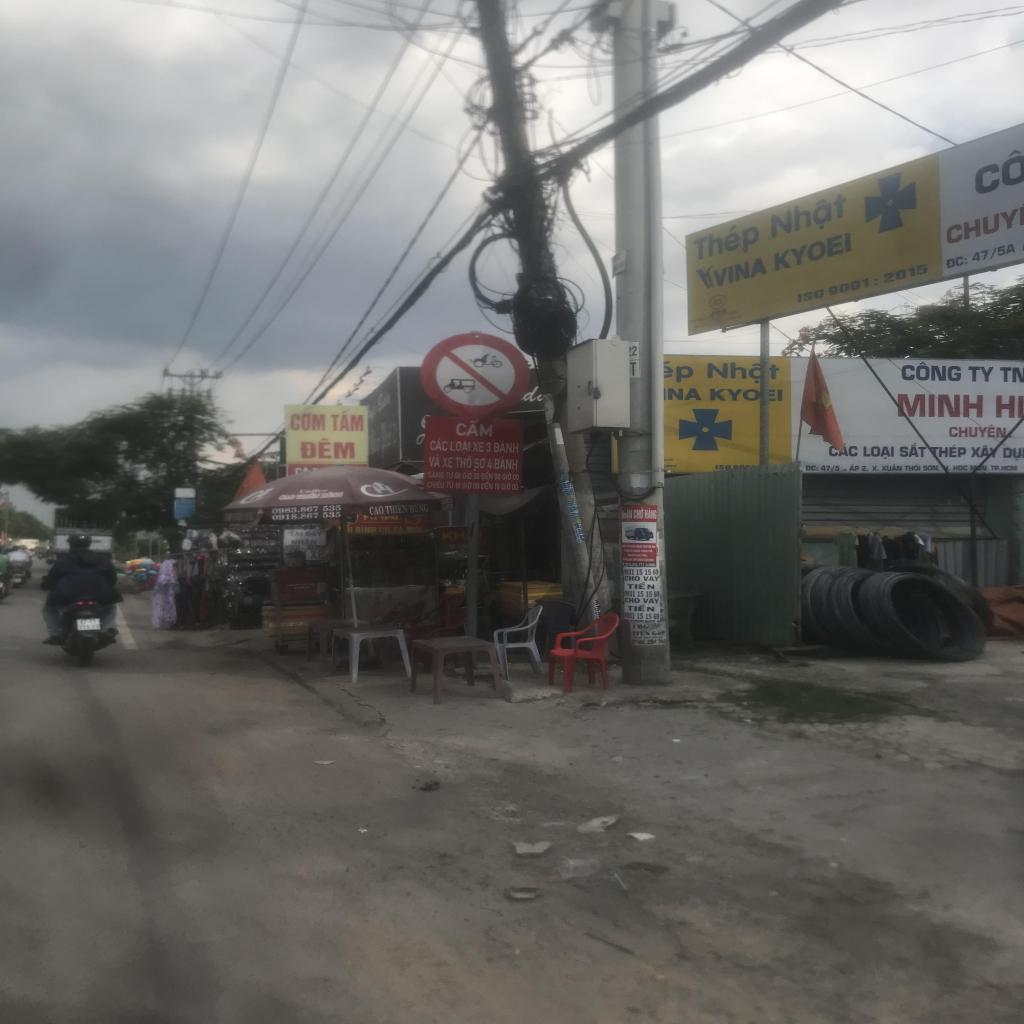cam_cac_loai_xe_3_banh: (420, 332, 532, 418)
